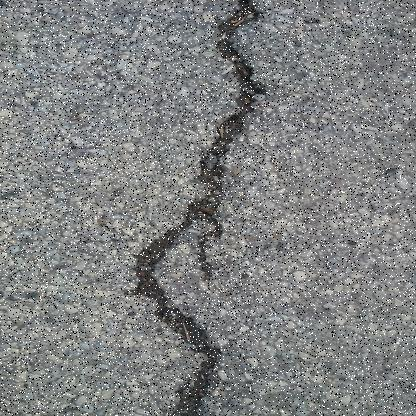Cracks: (121, 0, 284, 415)
